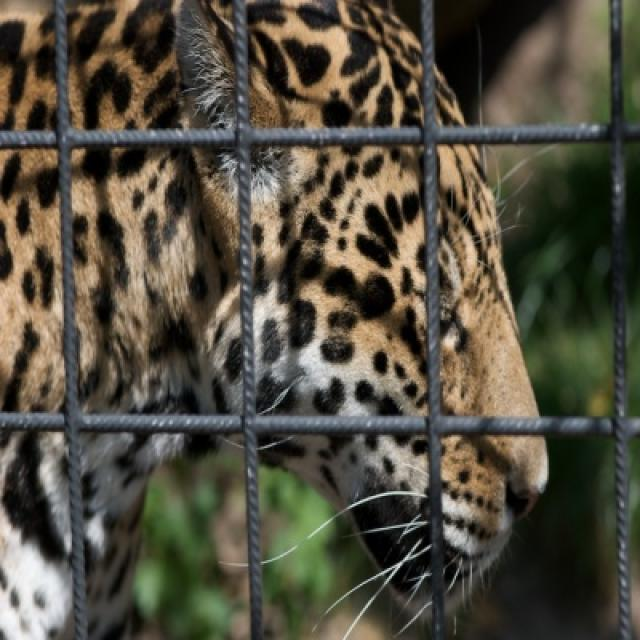Jaguar: (1, 0, 551, 638)
